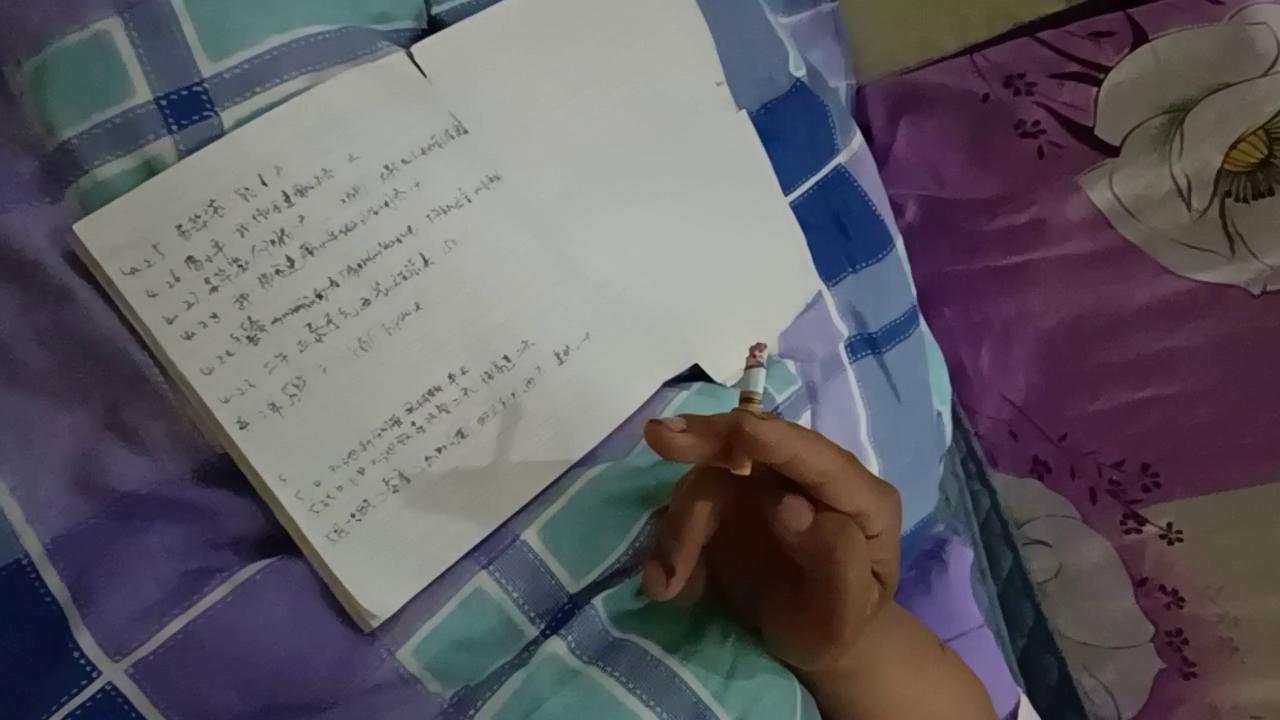smoke: (728, 342, 768, 476)
